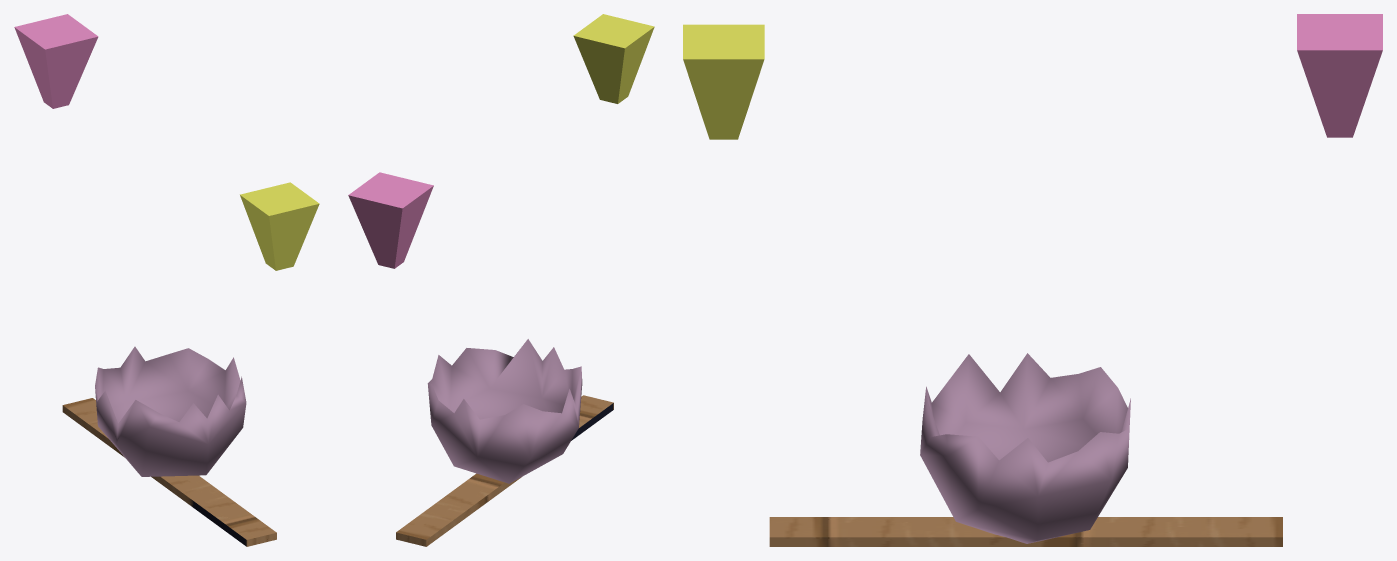
The model's file is LOD1Target.fbx.
3 views of the same model, side by side, from view 1: azimuth 30°, elevation 25°; view 2: azimuth 150°, elevation 25°; view 3: azimuth 270°, elevation 25° (orthographic). The views are drawn at different scales.
Parts seen in each view (by area): view 1: shittarget; view 2: shittarget; view 3: shittarget.
Boxes of the visible parts, box(x1,y1,x2,y2) form: shittarget: box(14, 14, 319, 546); shittarget: box(348, 14, 654, 546); shittarget: box(683, 14, 1382, 546).
Size of the model in its own units: 418 by 1100 by 1383.
